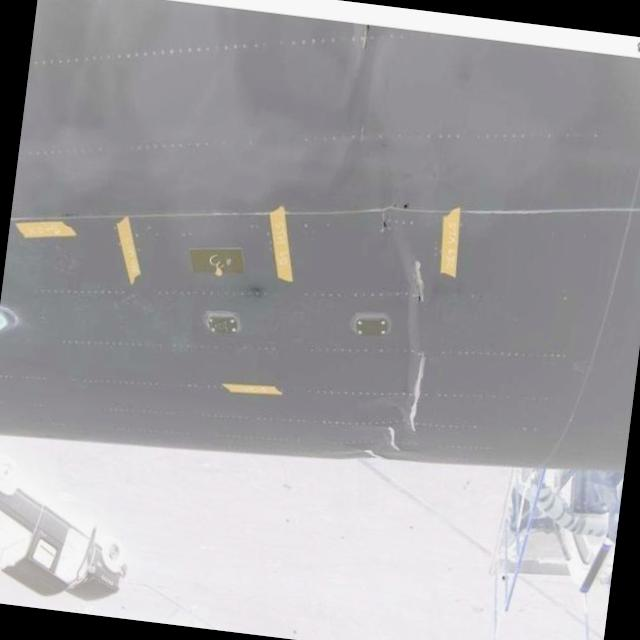crack: (402, 347, 432, 438), (404, 254, 429, 304), (381, 424, 404, 456)
